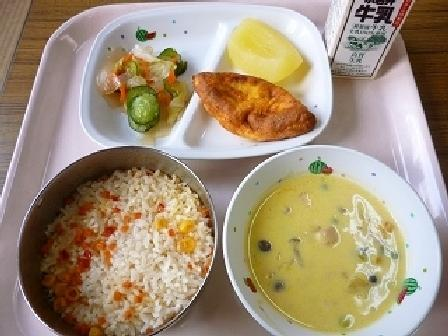Milk: (324, 0, 416, 78)
Mixed rice: (18, 149, 210, 334)
Salad: (93, 38, 185, 134)
pastry: (190, 68, 316, 147)
peach: (226, 12, 306, 80)
soup-plain: (229, 153, 433, 333)
